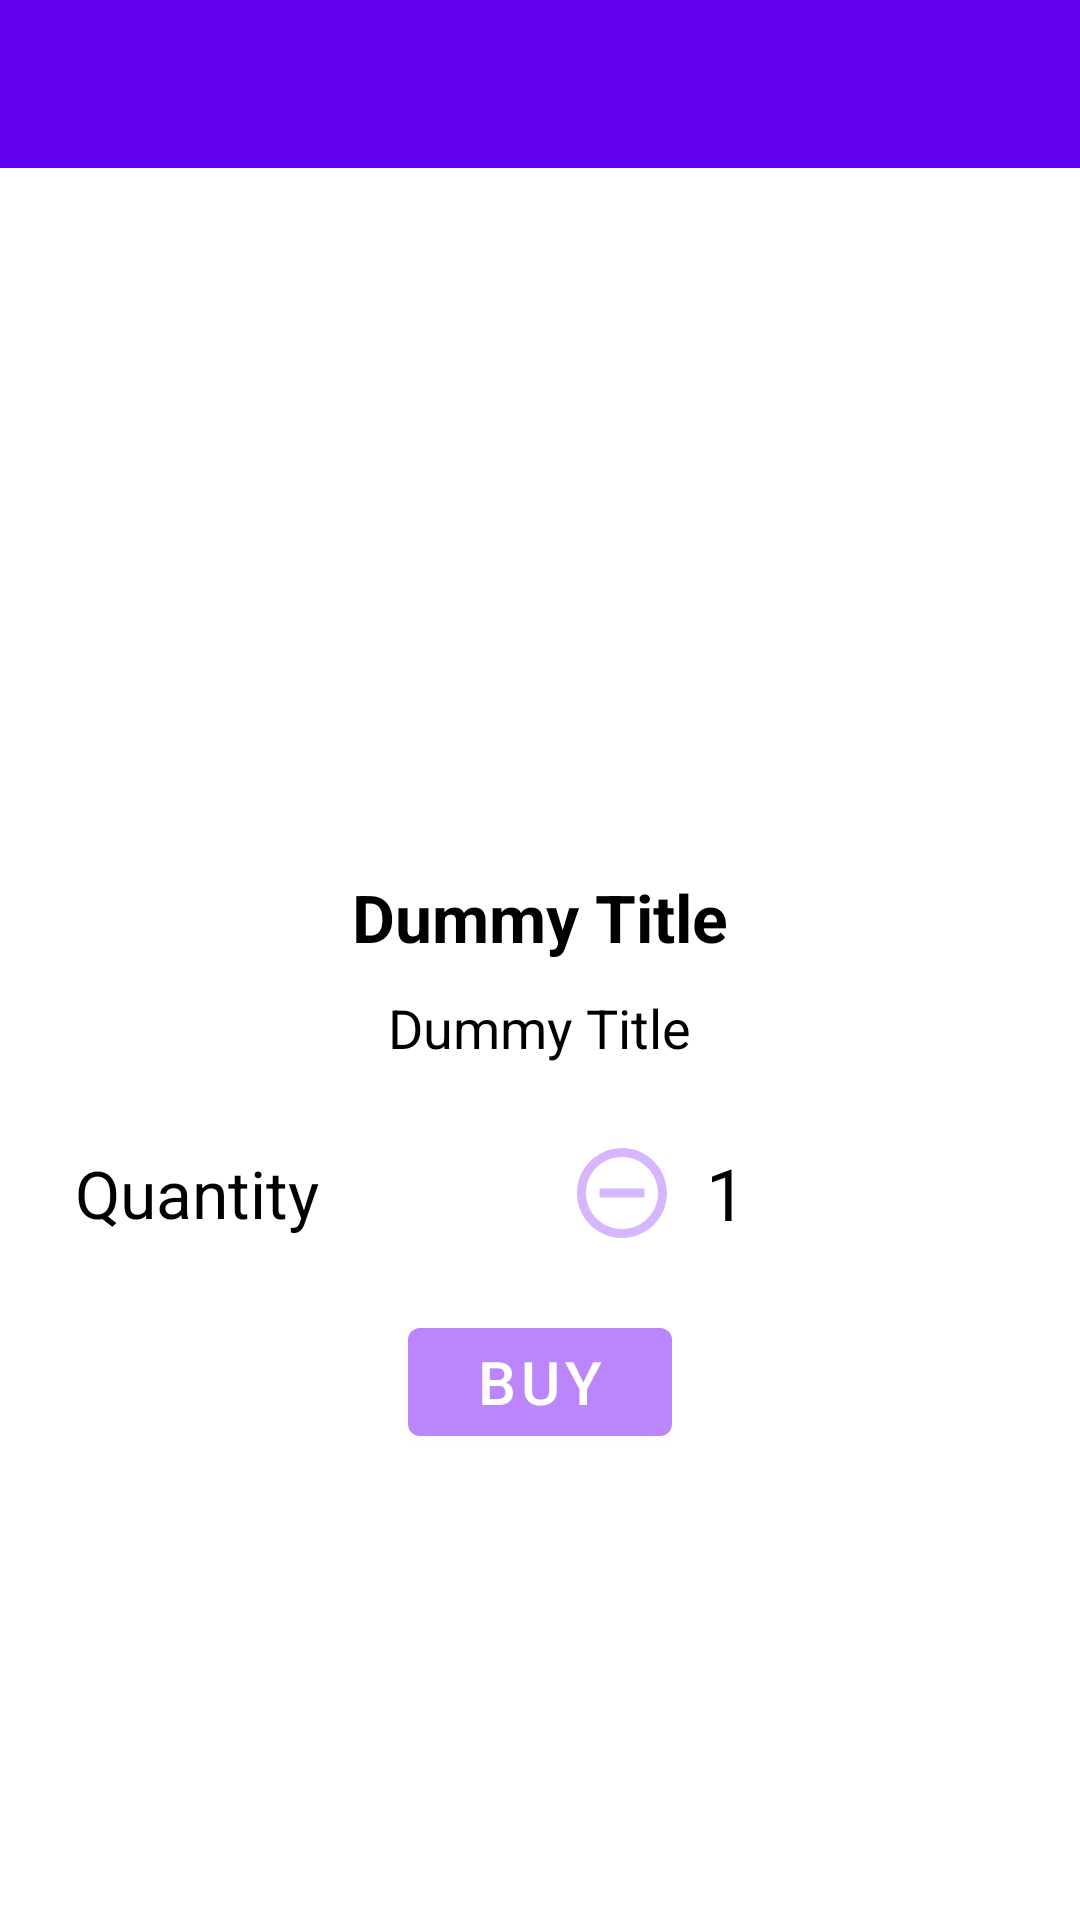

Point at icon controls on the screen. Image size 1080 × 1920, points as [x,y].
decrement: [622,1193]
